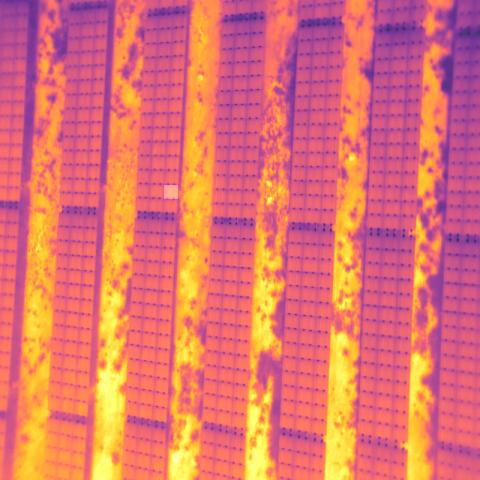fault: (164, 185, 178, 199)
